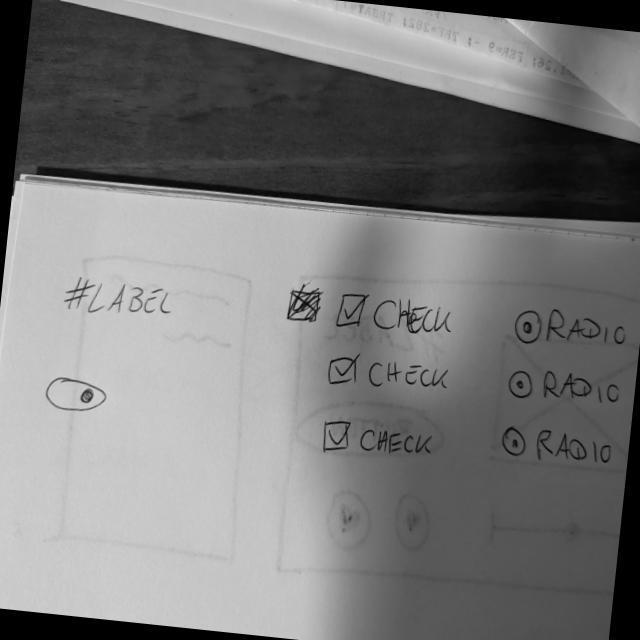checkbox: (335, 288, 459, 345), (325, 348, 455, 402), (320, 416, 439, 466)
label: (60, 270, 179, 327)
radio: (512, 301, 631, 356), (497, 420, 615, 471), (505, 364, 626, 412)
toggle: (42, 374, 110, 418)
